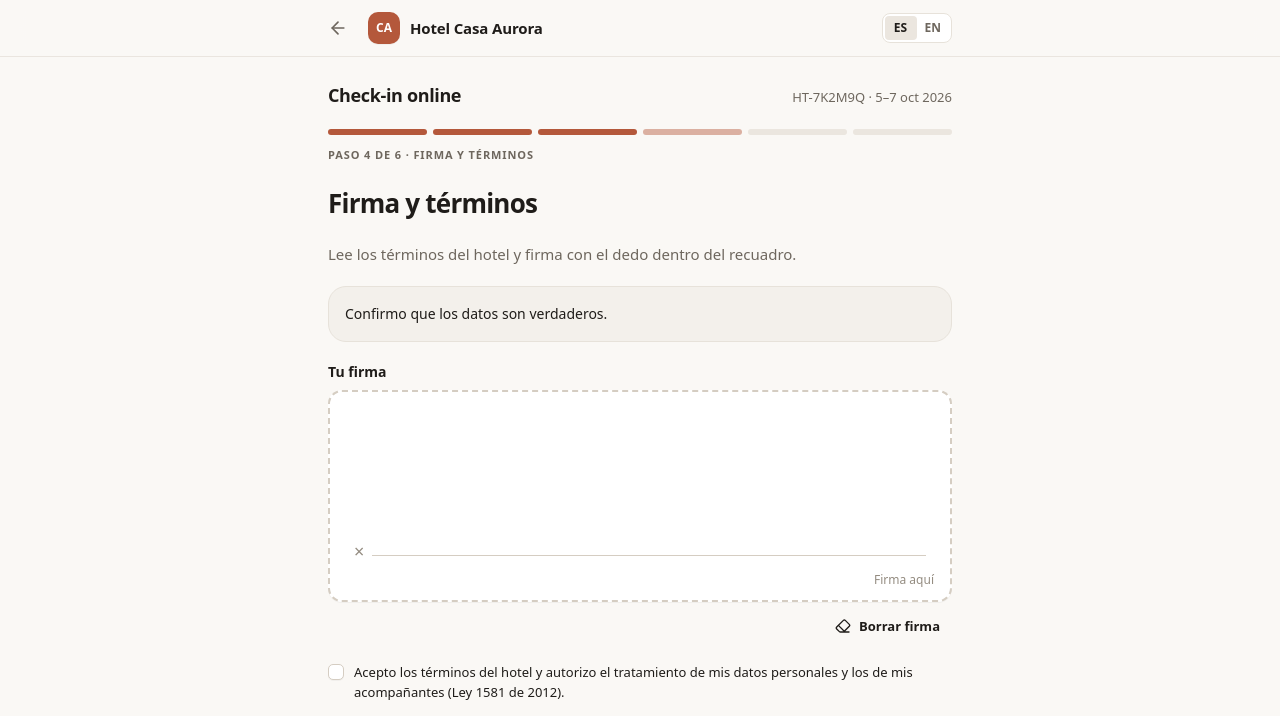
Test: CheckinPage — signature › signs, completes the check-in and offers to pay the balance
Expected: the heading "Firma y términos" is shown, [328,185,537,221]
Click the 1st checkbox named "Acepto los términos": click(336, 672) [328,664,344,680]
(page scrolled)
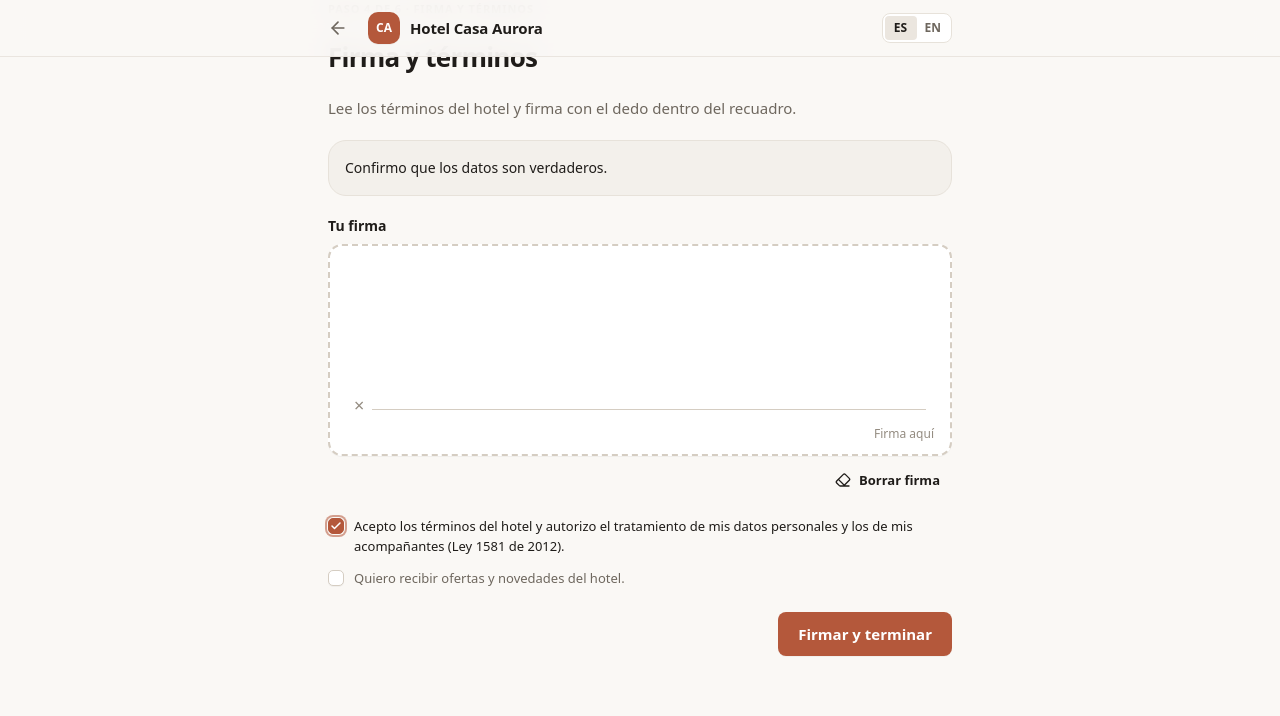
Click the button "Firmar y terminar": click(865, 634) [778,612,952,656]
(page scrolled)
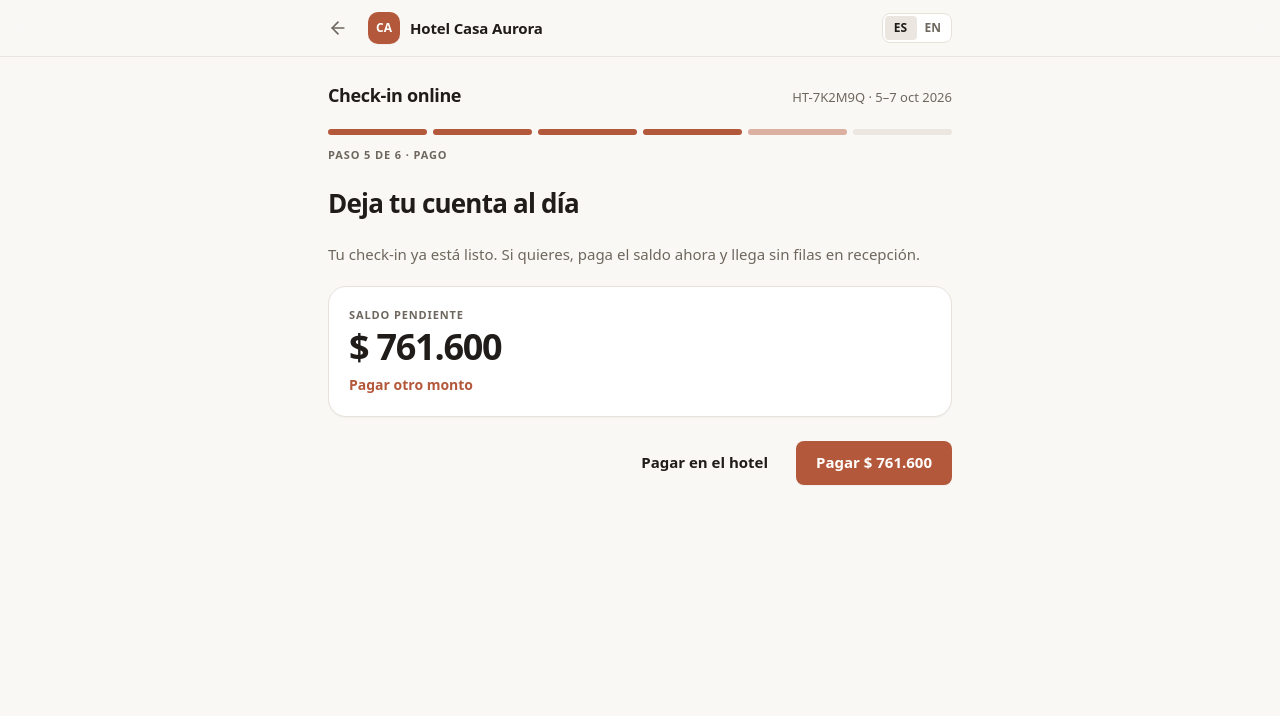
Now the heading "Deja tu cuenta al día" is shown, box [328,185,579,221]
Click the button "Pagar en el hotel": click(705, 462) [621,440,788,484]
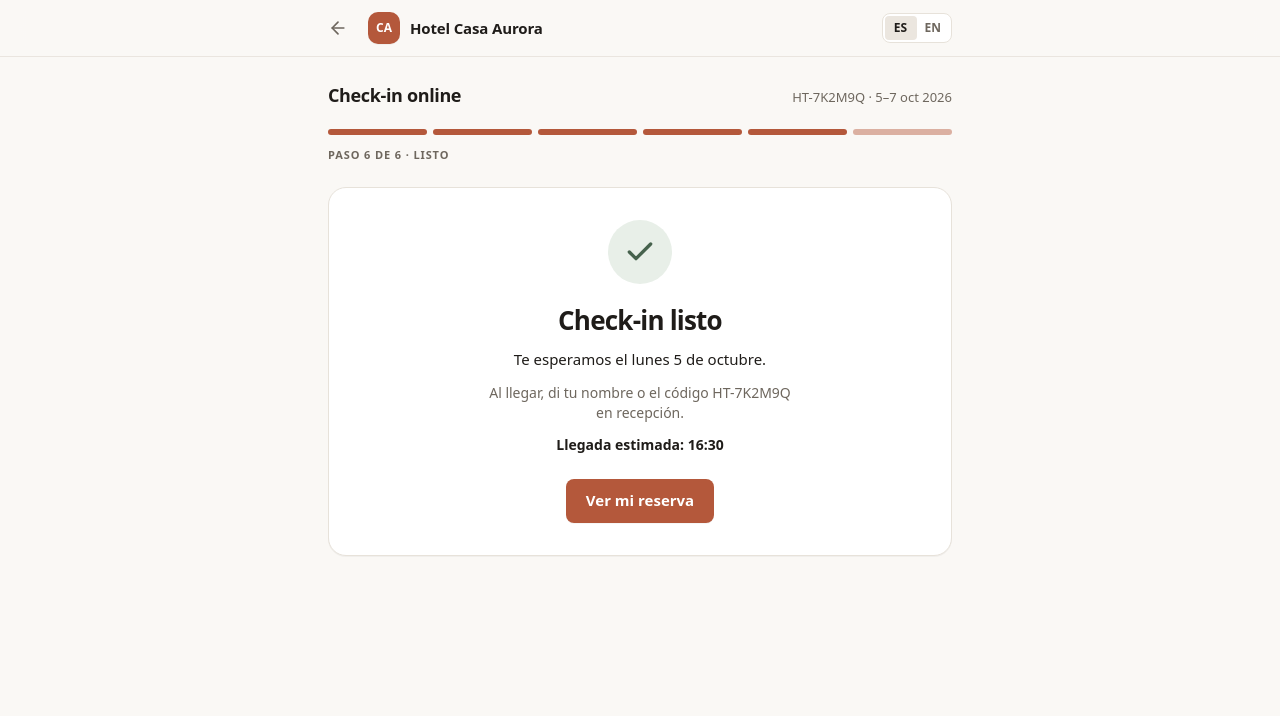
Now the heading "Check-in listo" is shown, box [558,304,722,336]
